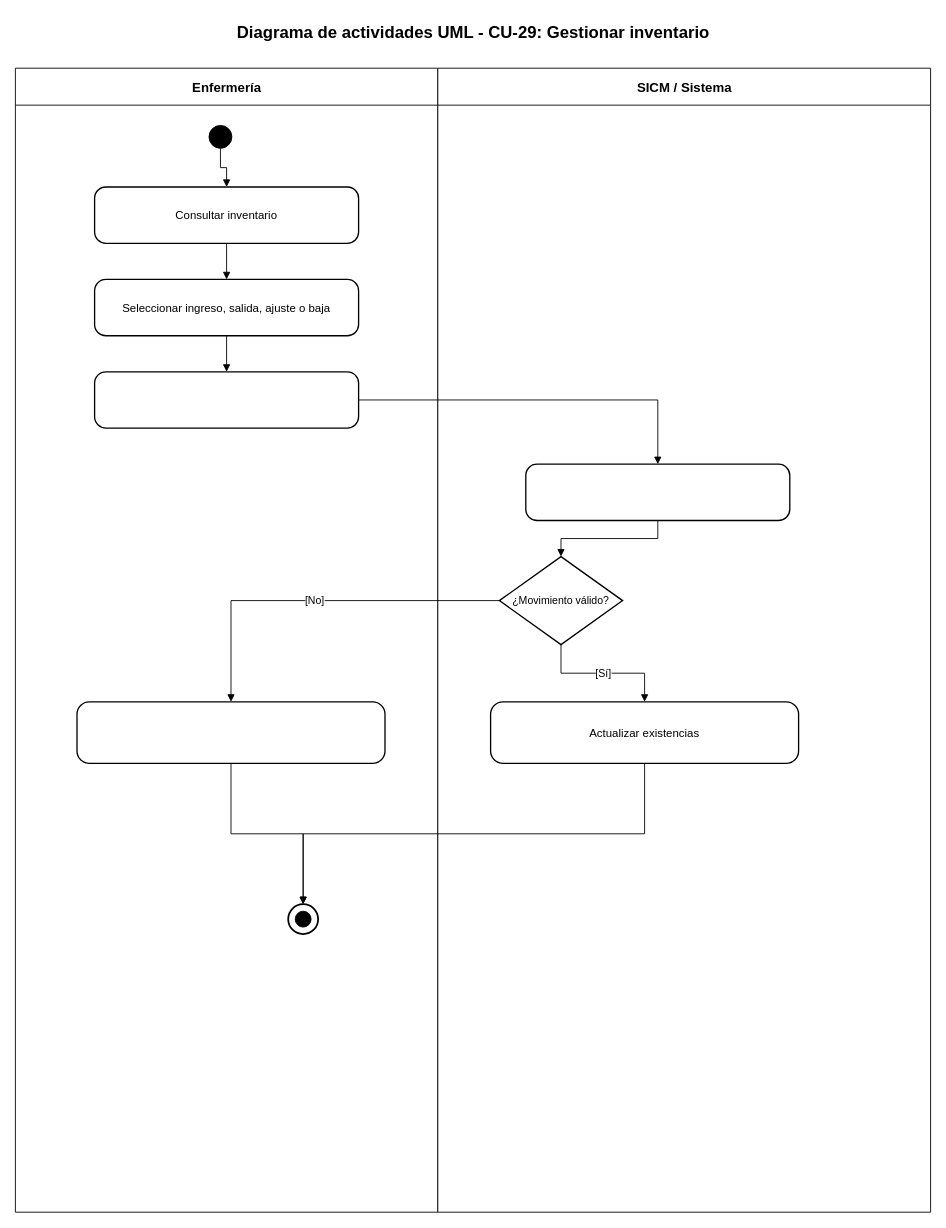
The diagram is 946 pixels wide and 1228 high, and some of its shapes have lost their labels. Each missing label, with the centre of its shape:
"Ingresar lote y cantidad" belongs at (x=226, y=399).
"Rechazar movimiento y notificar faltante" belongs at (x=230, y=732).
"Validar movimiento y stock" belongs at (x=657, y=492).
